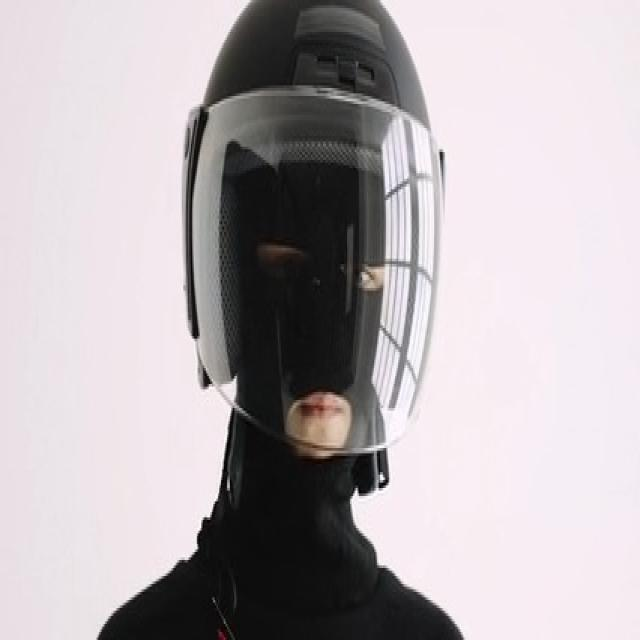Helmet_Wearer: (157, 0, 459, 622)
Person: (93, 0, 473, 640)
